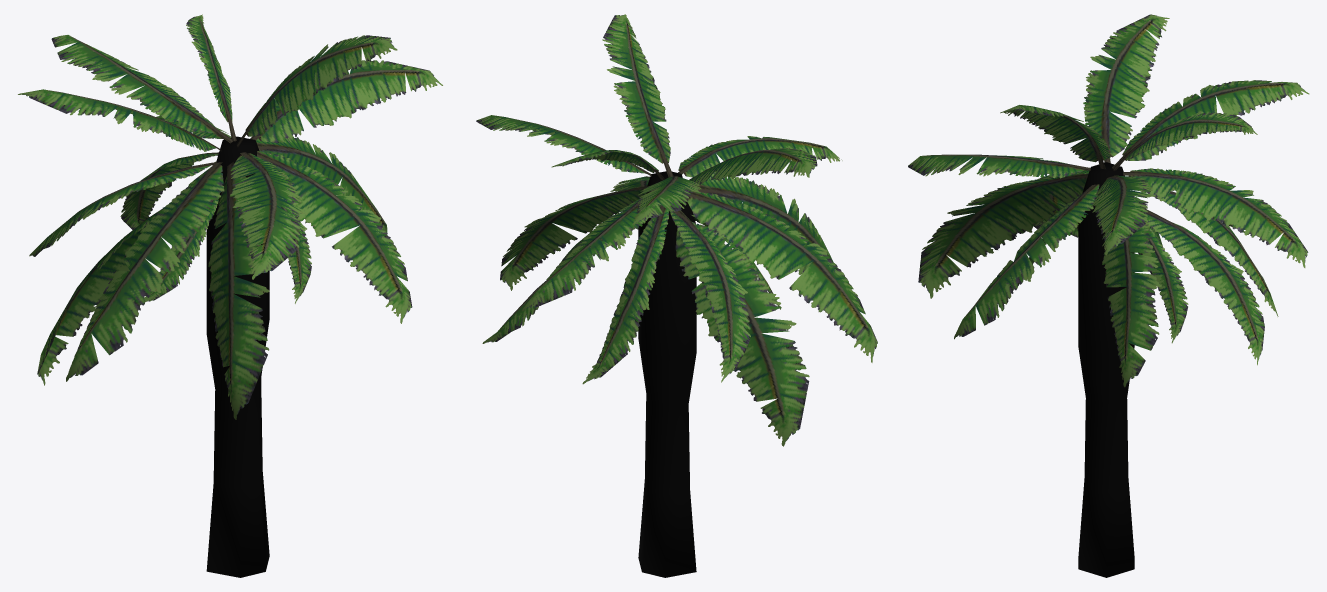
The model's file is tree_01c_ds.fbx.
The picture shows the model from 3 angles, left to right: view 1: azimuth 30°, elevation 25°; view 2: azimuth 150°, elevation 25°; view 3: azimuth 270°, elevation 25°; orthographic projection. The views are drawn at different scales.
Visible parts, largest first — view 1: tree_01c_ds; view 2: tree_01c_ds; view 3: tree_01c_ds.
Part boxes in pixels (x1,y1,x2,y2): tree_01c_ds: (18, 14, 442, 577); tree_01c_ds: (476, 14, 877, 577); tree_01c_ds: (908, 14, 1309, 577).
Size of the model in its own units: 6.92 by 8.77 by 6.42.
